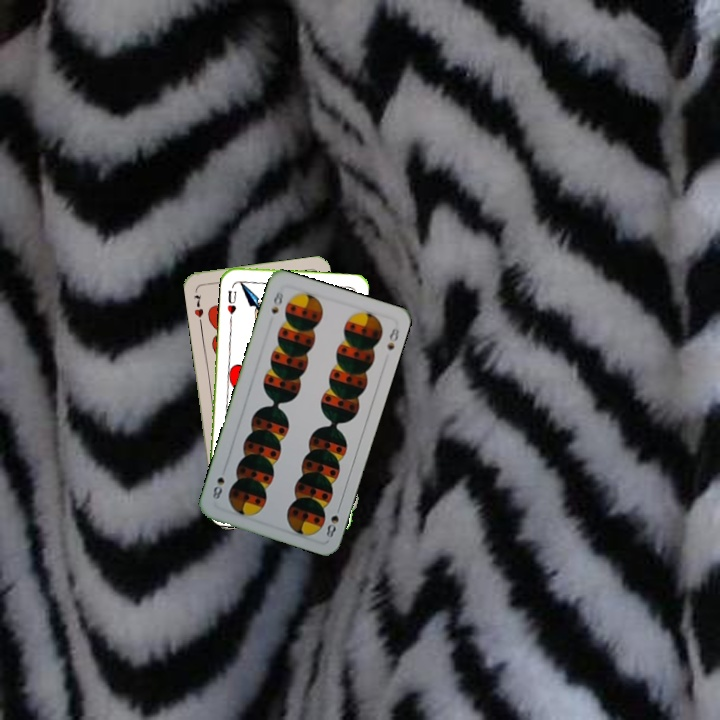H7: (190, 290, 206, 320)
HU: (223, 286, 239, 321)
S8: (322, 501, 343, 541), (267, 287, 286, 317)
